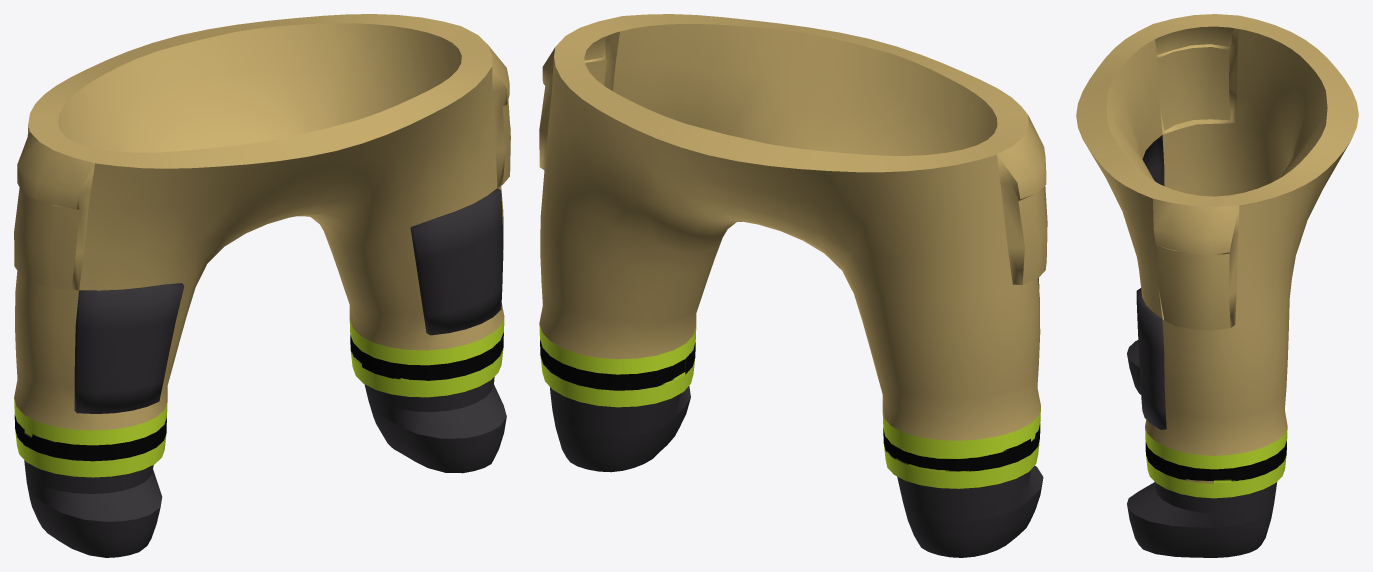
Rendered from 8消防裤.fbx.
3 renders of one model, left to right at view 1: azimuth 30°, elevation 25°; view 2: azimuth 150°, elevation 25°; view 3: azimuth 270°, elevation 25°, orthographic. The views are drawn at different scales.
Parts seen in each view (by area): view 1: 8消防裤; view 2: 8消防裤; view 3: 8消防裤.
Part boxes in pixels (left/top/right/bottom): 8消防裤: left=14, top=14, right=510, bottom=557; 8消防裤: left=539, top=14, right=1047, bottom=557; 8消防裤: left=1076, top=14, right=1358, bottom=557.
Bounding box in the file's own units: 0.651 × 0.5089 × 0.3655.
